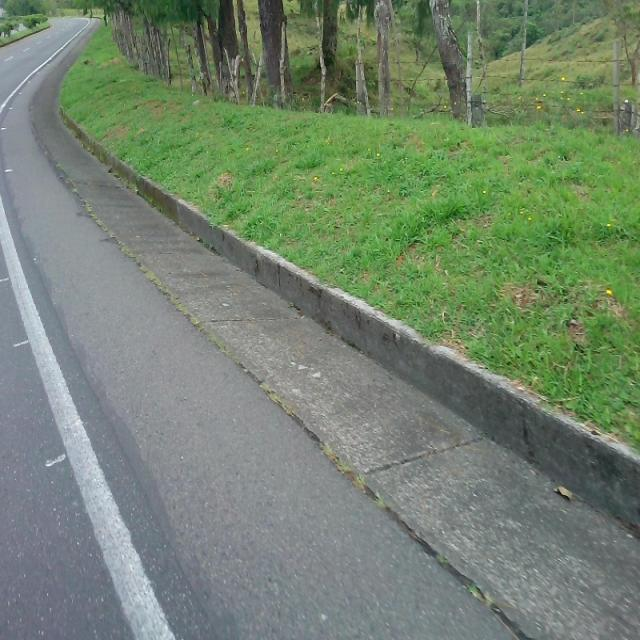DITCH: (7, 14, 638, 638), (1, 100, 639, 638)
